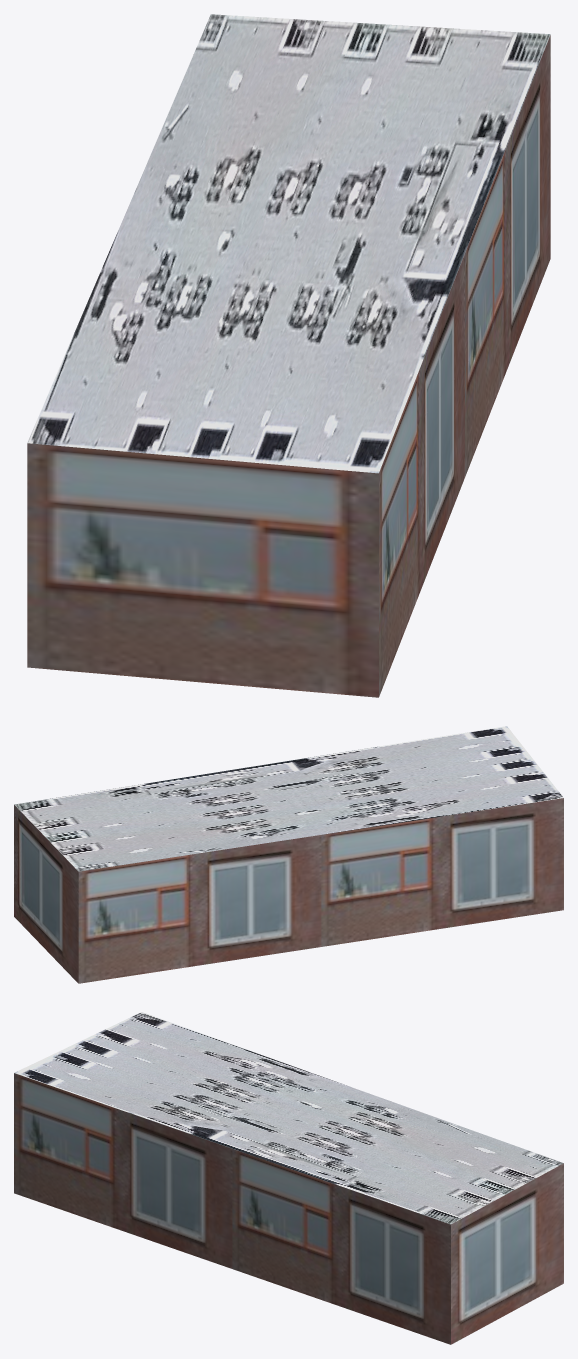
File: ResTex__3947.fbx
The picture shows the model from 3 angles, top to bottom: view 1: azimuth 30°, elevation 25°; view 2: azimuth 150°, elevation 25°; view 3: azimuth 270°, elevation 25°; orthographic projection. The views are drawn at different scales.
Visible parts, largest first — view 1: CityEngineMaterial_15_m, CityEngineMaterial_19_m; view 2: CityEngineMaterial_19_m, CityEngineMaterial_15_m; view 3: CityEngineMaterial_19_m, CityEngineMaterial_15_m.
Part boxes in pixels (x1,y1,x2,y2): CityEngineMaterial_15_m: (27, 14, 550, 473); CityEngineMaterial_19_m: (27, 35, 550, 697); CityEngineMaterial_19_m: (14, 798, 563, 983); CityEngineMaterial_15_m: (14, 726, 563, 871); CityEngineMaterial_19_m: (14, 1073, 563, 1344); CityEngineMaterial_15_m: (14, 1012, 563, 1224).
Size of the model in its own units: 11.36 by 3 by 12.43.
2 materials, 2 textured.
